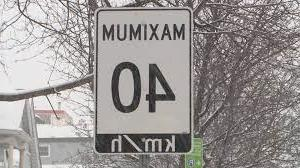speed limit sign: (94, 5, 194, 156)
